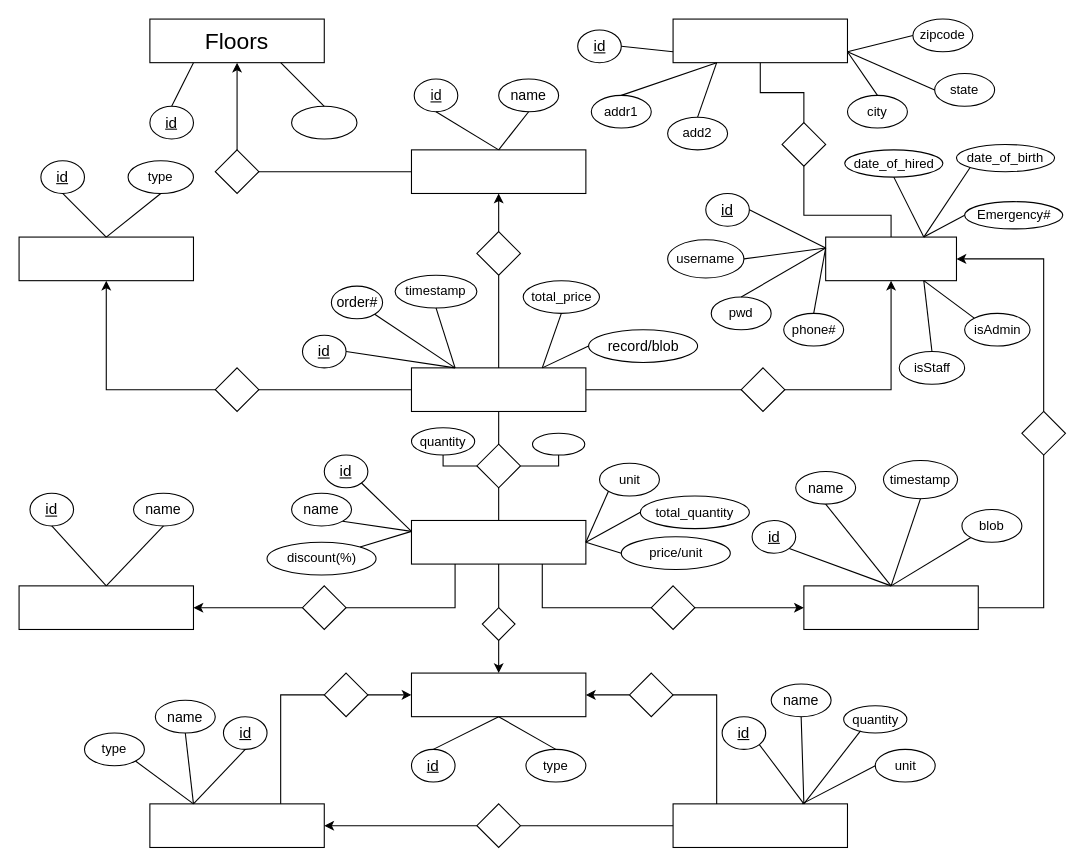
The diagram is 1085 pixels wide and 867 high, and some of its shapes have lost their labels. Here are the shapes that lost their labels. From the top down, the centre of each, then its label:
At (x=759, y=40): "Addresses".
At (x=323, y=122): "number".
At (x=498, y=171): "Tables".
At (x=105, y=258): "Payments".
At (x=890, y=258): "Users".
At (x=498, y=389): "Orders".
At (x=558, y=443): "notes".
At (x=498, y=541): "Items".
At (x=105, y=607): "Categories".
At (x=890, y=607): "Images".
At (x=498, y=694): "Status".
At (x=236, y=825): "Inventories".
At (x=759, y=825): "iItems".
